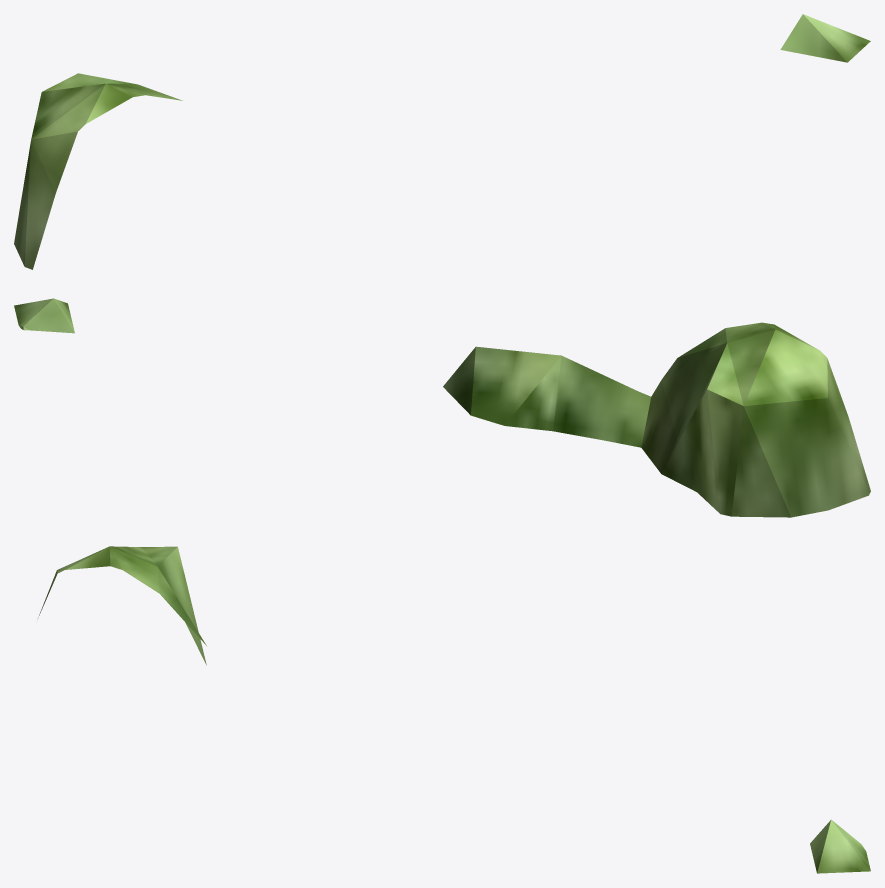
3 views of the same model, one above another, from view 1: azimuth 30°, elevation 25°; view 2: azimuth 150°, elevation 25°; view 3: azimuth 330°, elevation 25° (orthographic). The views are drawn at different scales.
Bounding box in the file's own units: 1.05 × 0.1799 × 0.1326.
Materials: 1 (1 with a texture image).
